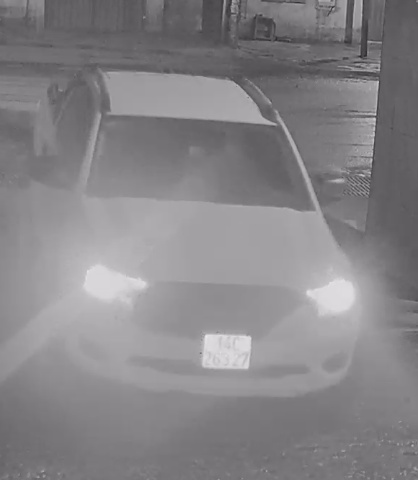vehicle plate: (192, 324, 258, 376)
